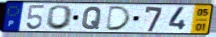4: (167, 5, 189, 33)
5: (25, 4, 46, 30)
7: (145, 5, 164, 33)
D: (104, 5, 133, 32)
O: (45, 4, 76, 31)
Q: (80, 6, 103, 31)
